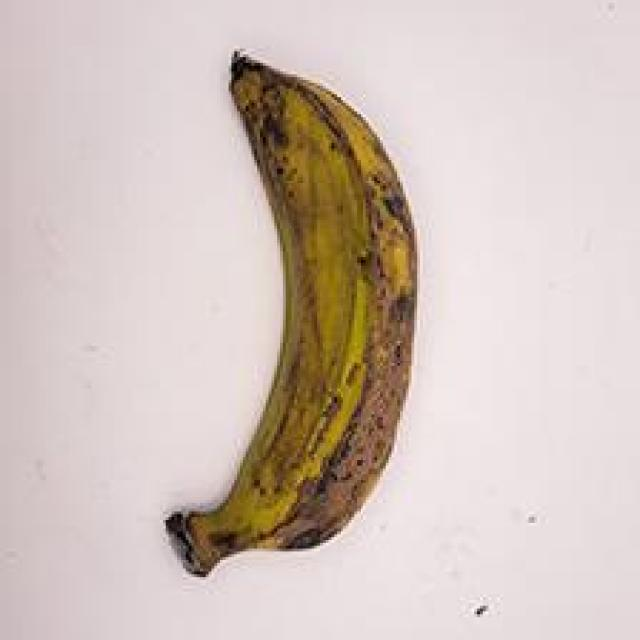Overripe: (122, 43, 438, 582)
